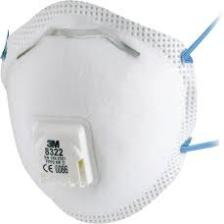mask: (2, 1, 220, 222)
